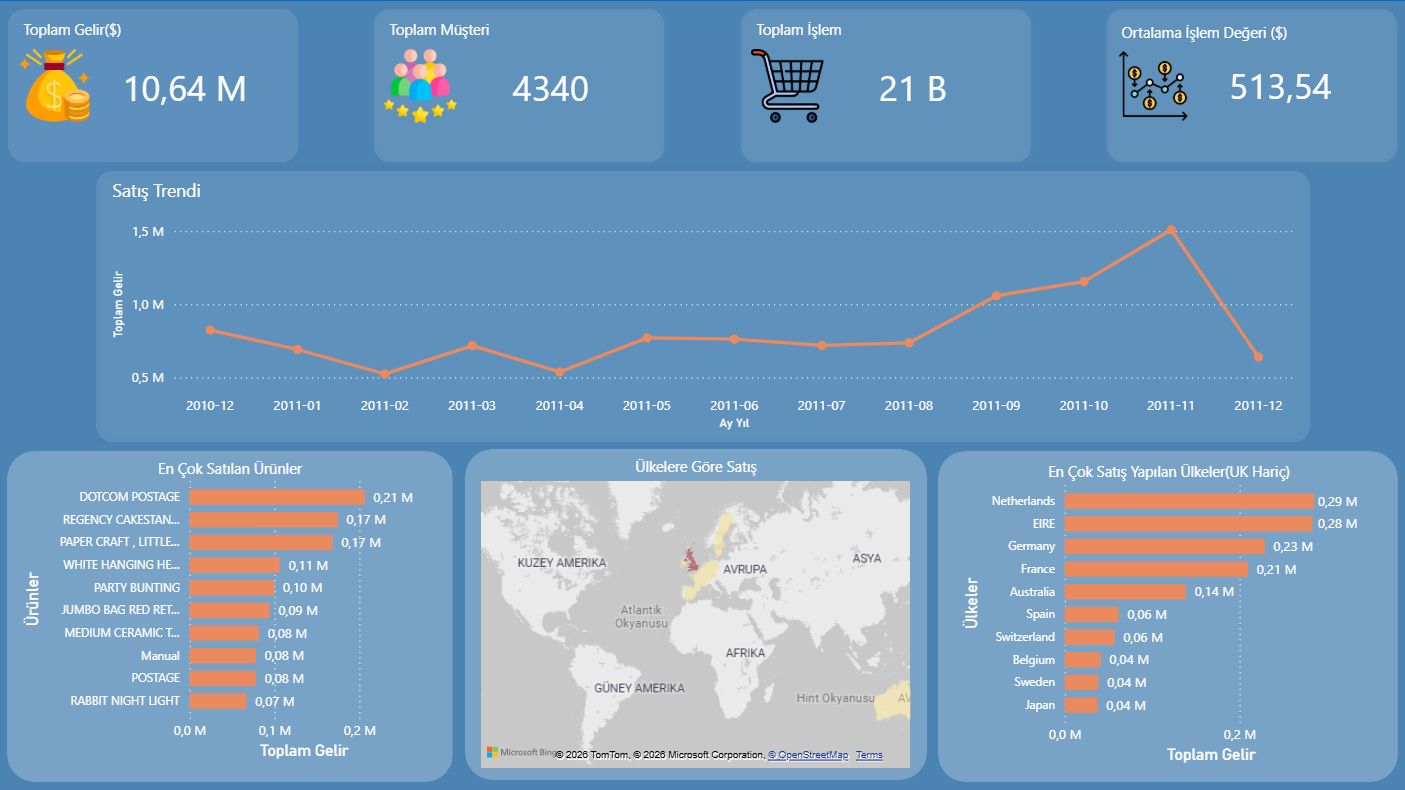

This screenshot's page, from the dashboard's own definition file:
{"tool":"powerbi","page":{"name":"Genel Bakış","canvas":[1280,720],"ordinal":0},"visuals":[{"type":"shape","box":[0,0,1280,720],"z":0},{"type":"shape","box":[333.1,0,280.3,155.8],"z":1000},{"type":"shape","box":[666.3,0,280.3,155.8],"z":2000},{"type":"shape","box":[999.4,0,280.3,155.8],"z":3000},{"type":"shape","box":[80,147.2,1120,262.7],"z":4000},{"type":"shape","box":[7.3,409.9,405.5,300.9],"z":5000},{"type":"shape","box":[423.2,408.3,420,300.9],"z":6000},{"type":"shape","box":[853.6,409.9,418.2,300.9],"z":7000},{"type":"shape","box":[0,0,280.1,155.6],"z":8000},{"type":"card","title":"Toplam Gelir($)","fields":{"Values":["Online Retail.Toplam Gelir"]},"box":[17.3,18.2,303.6,106.4],"z":9000},{"type":"card","title":"Toplam Müşteri","fields":{"Values":["Online Retail.Toplam Müşteri"]},"box":[350,18.2,303.6,106.4],"z":10000},{"type":"card","title":"Toplam İşlem","fields":{"Values":["Online Retail.Toplam İşlem"]},"box":[683.6,18.2,294.5,106.4],"z":11000},{"type":"card","title":"Ortalama İşlem Değeri($)","fields":{"Values":["Online Retail.Ortalama İşlem Değeri"]},"box":[1050,24.5,230,106.4],"z":12000},{"type":"lineChart","title":"Satış Trendi","fields":{"Category":["Online Retail.Ay Yıl"],"Y":["Online Retail.Toplam Gelir"]},"box":[98.2,161.7,1083.6,233.6],"z":13000},{"type":"barChart","title":"En Çok Kazandıran Ürünler","fields":{"Category":["Online Retail.Description"],"Y":["Online Retail.Toplam Gelir"]},"box":[17.5,423.8,384.2,271.3],"z":14000},{"type":"filledMap","title":"Ülkelere Göre Satış","fields":{"Category":["Online Retail.Country"]},"box":[433.6,415.5,400,288.2],"z":15000},{"type":"barChart","title":"UK Hariç Ülkelere Göre Satış","fields":{"Category":["Online Retail.Country"],"Y":["Online Retail.Toplam Gelir"]},"box":[870.9,427.4,384.2,271.3],"z":16000},{"type":"textbox","box":[60,411.9,300,28.7],"z":17000},{"type":"textbox","box":[913.4,414.6,300,28.7],"z":18000},{"type":"image","box":[17.3,43.6,66.4,69.1],"z":19000},{"type":"image","box":[350,43.6,66.4,69.1],"z":20000},{"type":"image","box":[683.6,43.6,66.4,69.1],"z":21000},{"type":"image","box":[1016.4,43.6,66.4,69.1],"z":22000},{"type":"textbox","box":[1015.5,15.5,263.6,30.9],"z":23000}]}

Visuals, with their boxes in screenshot pixels (x1, y1, x2, y2), scaled from the page's 1280x720 canvas onto the 1405x790 screenshot:
shape: l=0, t=0, r=1404, b=789
shape: l=366, t=0, r=673, b=171
shape: l=731, t=0, r=1039, b=171
shape: l=1097, t=0, r=1404, b=171
shape: l=88, t=162, r=1317, b=450
shape: l=8, t=450, r=453, b=780
shape: l=465, t=448, r=926, b=778
shape: l=937, t=450, r=1396, b=780
shape: l=0, t=0, r=307, b=171
"Toplam Gelir($)" card: l=19, t=20, r=352, b=137
"Toplam Müşteri" card: l=384, t=20, r=717, b=137
"Toplam İşlem" card: l=750, t=20, r=1074, b=137
"Ortalama İşlem Değeri($)" card: l=1153, t=27, r=1404, b=144
"Satış Trendi" lineChart: l=108, t=177, r=1297, b=434
"En Çok Kazandıran Ürünler" barChart: l=19, t=465, r=441, b=763
"Ülkelere Göre Satış" filledMap: l=476, t=456, r=915, b=772
"UK Hariç Ülkelere Göre Satış" barChart: l=956, t=469, r=1378, b=767
textbox: l=66, t=452, r=395, b=483
textbox: l=1003, t=455, r=1332, b=486
image: l=19, t=48, r=92, b=124
image: l=384, t=48, r=457, b=124
image: l=750, t=48, r=823, b=124
image: l=1116, t=48, r=1189, b=124
textbox: l=1115, t=17, r=1404, b=51
